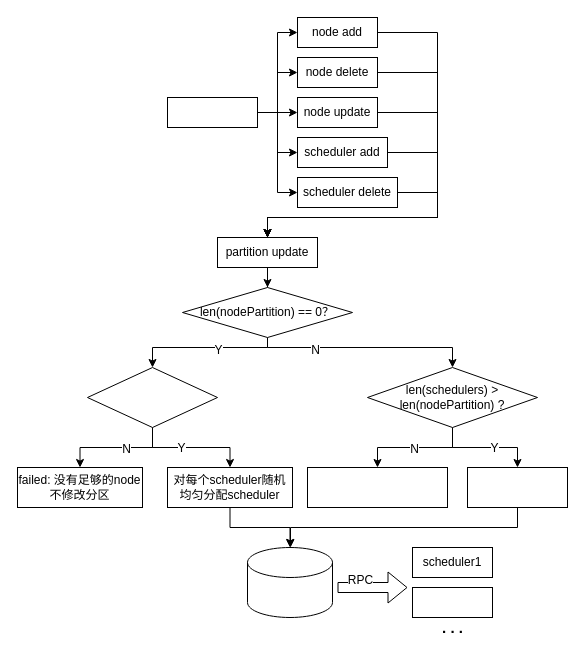
The diagram is 585 pixels wide and 655 high, and some of its shapes have lost their labels. Here are the shapes that lost their labels. From the top down, the centre of each, then its label:
At (212,112): "event handler".
At (152,397): "len(nodes) > len(schedulers) ?".
At (377,487): "failed: 没有足够的分区 不修改分区".
At (517,487): "为scheduler分配空闲分区".
At (289,582): "scheduler partition map".
At (452,602): "scheduler2".
